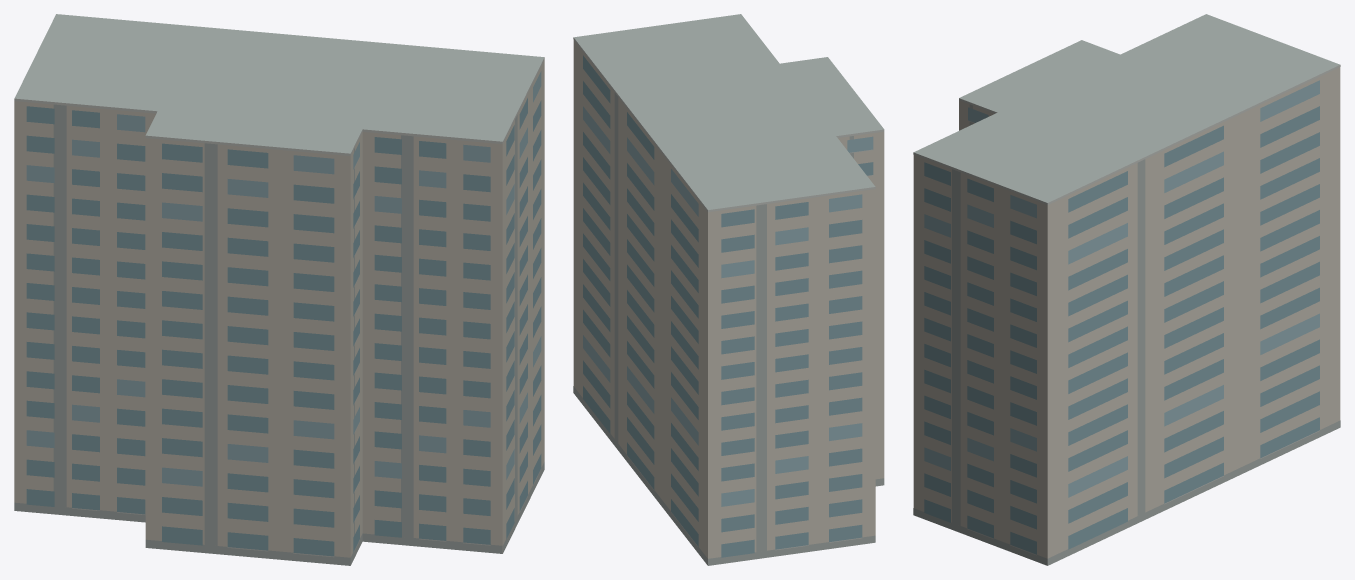
Rendered from residential-4ca55b5d-798d-4e26-8518-edf4032a2968.glb.
3 views of the same model, side by side, from view 1: azimuth 30°, elevation 25°; view 2: azimuth 150°, elevation 25°; view 3: azimuth 270°, elevation 25° (orthographic). The views are drawn at different scales.
Visible parts, largest first — view 1: residential-4ca55b5d-798d-4e26-8518-edf4032a2968.tmp; view 2: residential-4ca55b5d-798d-4e26-8518-edf4032a2968.tmp; view 3: residential-4ca55b5d-798d-4e26-8518-edf4032a2968.tmp.
Boxes of the visible parts, x1,y1,x2,y2 form: residential-4ca55b5d-798d-4e26-8518-edf4032a2968.tmp: (14, 14, 544, 565); residential-4ca55b5d-798d-4e26-8518-edf4032a2968.tmp: (573, 14, 884, 565); residential-4ca55b5d-798d-4e26-8518-edf4032a2968.tmp: (913, 14, 1340, 565).
Size of the model in its own units: 45.82 by 41 by 43.72.
